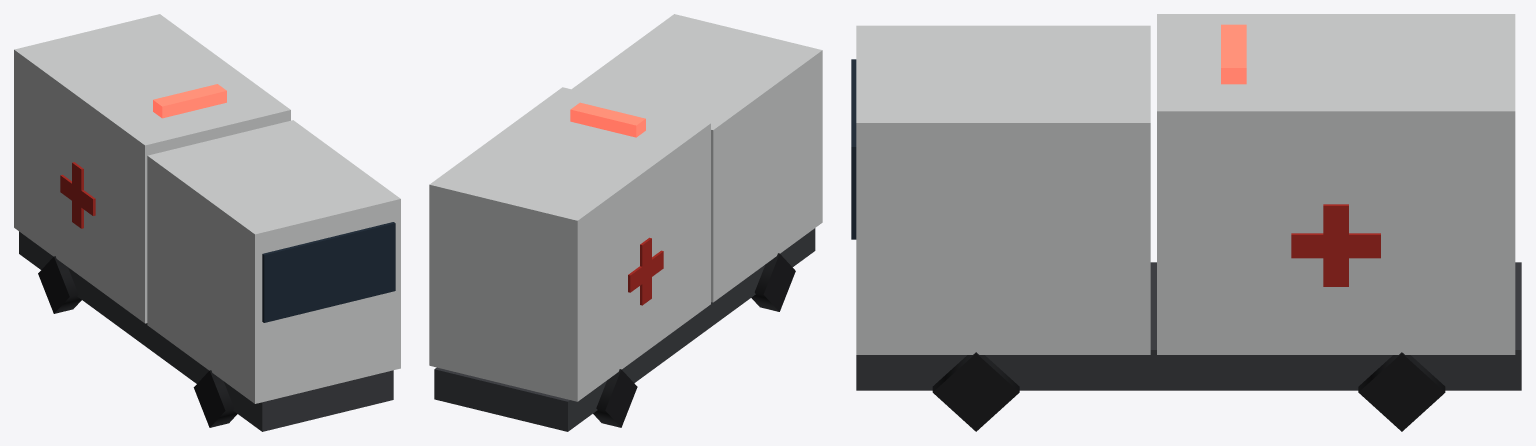
Rendered from veh_ground_ambulance_a08_lod2.glb.
3 renders of one model, left to right at view 1: azimuth 30°, elevation 25°; view 2: azimuth 150°, elevation 25°; view 3: azimuth 270°, elevation 25°, orthographic. The views are drawn at different scales.
Visible parts, largest first — view 1: body, wheel_2, wheel_0; view 2: body, wheel_2, wheel_0; view 3: body, wheel_1, wheel_3.
Part boxes in pixels (box(x1,y1,x2,y2)): body: box(14, 14, 400, 431); wheel_2: box(193, 370, 237, 427); wheel_0: box(38, 256, 81, 313); body: box(429, 14, 822, 431); wheel_2: box(751, 253, 795, 311); wheel_0: box(593, 369, 637, 427); body: box(851, 14, 1521, 390); wheel_1: box(1358, 352, 1445, 431); wheel_3: box(932, 352, 1019, 431).
Size of the model in its own units: 1.87 by 2.9 by 5.24.
